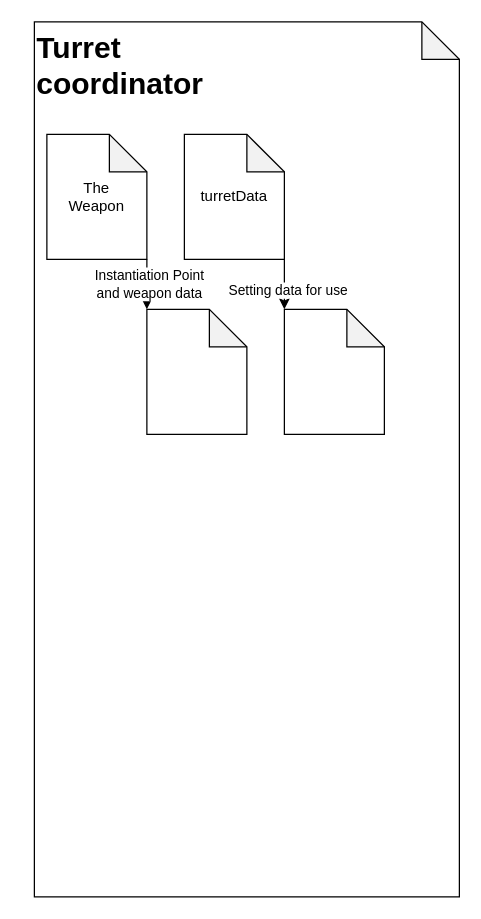
Some shapes in this 481 by 919 pixel diagram are drawn without their labels. Each missing label, with the centre of its shape:
"Targeting Comp" goes at (196,371).
"TurretRotator" goes at (333,371).
